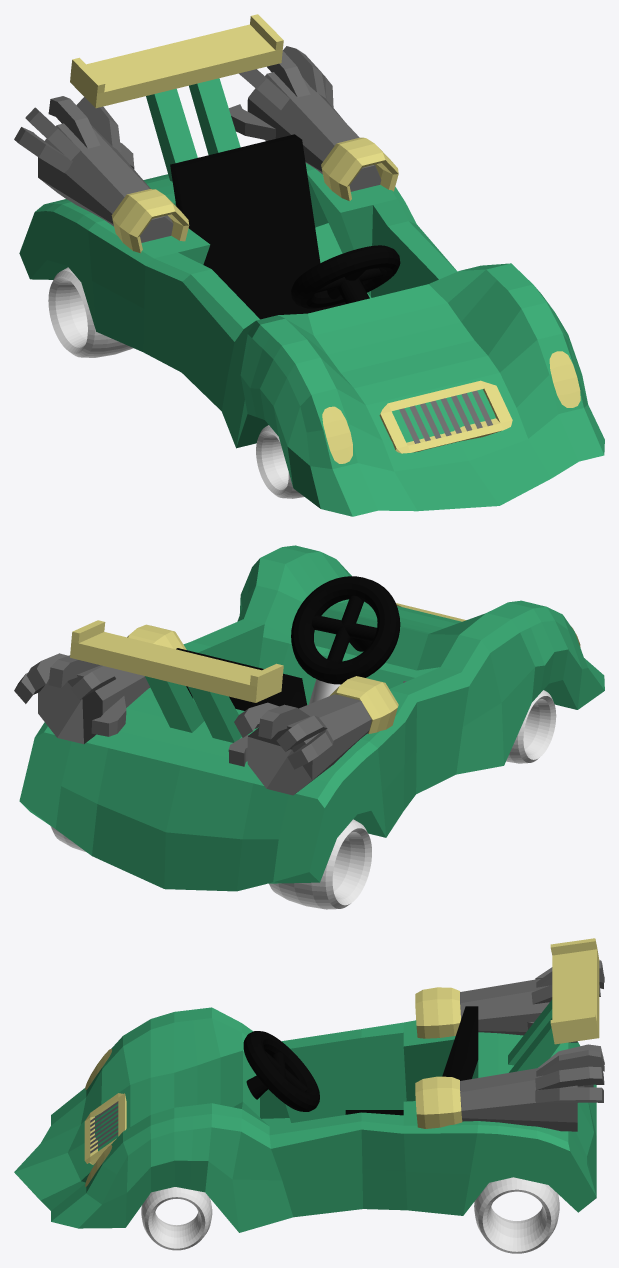
The model's file is kartModeloVerde.fbx.
3 renders of one model, top to bottom at view 1: azimuth 30°, elevation 25°; view 2: azimuth 150°, elevation 25°; view 3: azimuth 270°, elevation 25°, orthographic. The views are drawn at different scales.
Visible parts, largest first — view 1: Cube.003, Cube.005, Cube.002, Cube.006, Torus.004, Cube.007, Torus.002, Torus, Cube.004, Plane, Cylinder.001, Torus.001; view 2: Cube.003, Cube.005, Cube.006, Torus, Torus.002, Cube.007, Torus.004, Torus.001, Cube.002, Cylinder.004, Cylinder.003; view 3: Cube.003, Cube.005, Cube.006, Torus.004, Torus.002, Torus, Torus.001, Cube.002, Cube.007, Cube.004, Cylinder.001, Plane.
Boxes of the visible parts, x1,y1,x2,y2 form: Cube.003: (19, 163, 604, 516); Cube.005: (14, 46, 381, 242); Cube.002: (170, 134, 345, 319); Cube.006: (70, 14, 283, 108); Torus.004: (111, 137, 398, 253); Cube.007: (146, 78, 240, 181); Torus.002: (48, 267, 133, 357); Torus: (291, 245, 400, 308); Cube.004: (379, 380, 512, 453); Plane: (322, 351, 580, 463); Cylinder.001: (399, 390, 492, 443); Torus.001: (256, 425, 304, 498); Cube.003: (19, 545, 604, 891); Cube.005: (14, 653, 371, 795); Cube.006: (70, 620, 283, 702); Torus: (291, 576, 400, 684); Torus.002: (50, 819, 371, 909); Cube.007: (145, 676, 241, 742); Torus.004: (127, 624, 398, 733); Torus.001: (506, 690, 556, 763); Cube.002: (176, 648, 306, 710); Cylinder.004: (327, 595, 363, 661); Cylinder.003: (312, 615, 376, 641); Cube.003: (14, 1007, 596, 1232); Cube.005: (460, 960, 604, 1131); Cube.006: (550, 938, 599, 1044); Torus.004: (415, 987, 462, 1128); Torus.002: (474, 1177, 559, 1253); Torus: (243, 1031, 319, 1111); Torus.001: (141, 1187, 212, 1250); Cube.002: (345, 1006, 478, 1115); Cube.007: (508, 999, 559, 1072); Cube.004: (84, 1093, 126, 1164); Cylinder.001: (90, 1101, 118, 1153); Plane: (85, 1048, 112, 1186).
Bounding box in the file's own units: 112 × 91.19 × 220.
